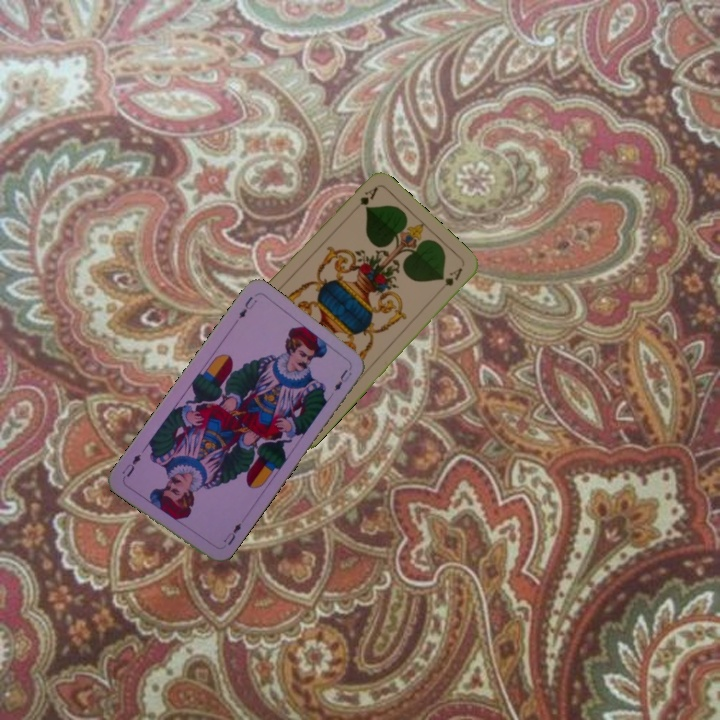EU: (234, 292, 260, 321), (219, 519, 244, 548)
GA: (348, 183, 380, 215)
